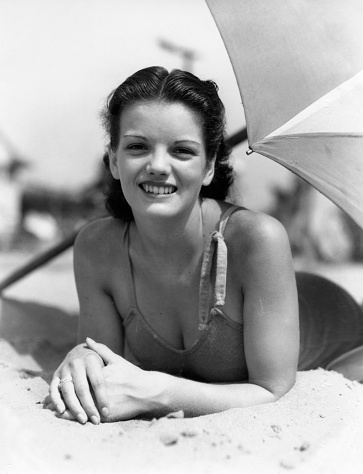deitado: (40, 62, 303, 422)
